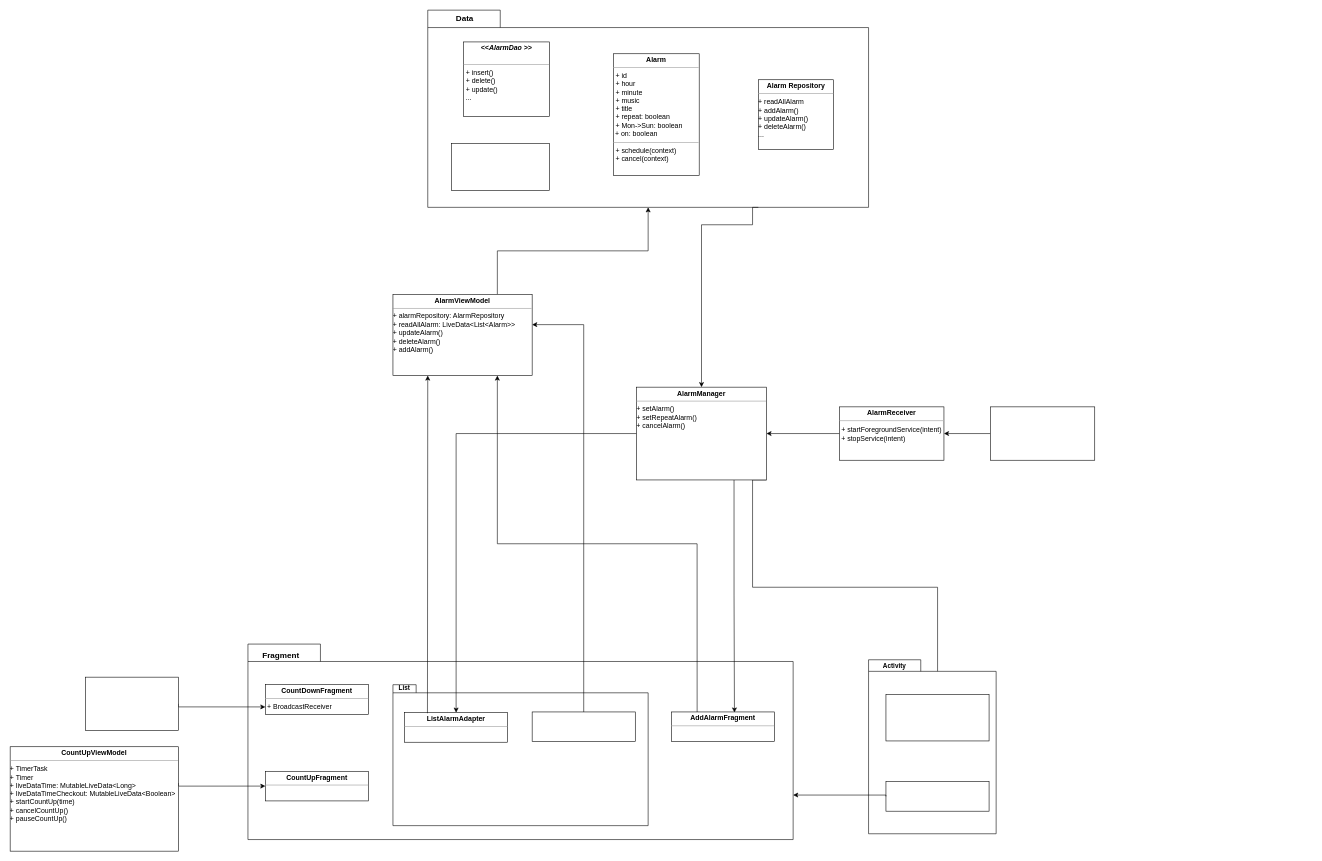
This 1322x861 diagram has some shape labels left out. The box of each missing label's shape, as (x1, y1, x2, y2) in pixels:
Alarm Database + alarmDao(): AlarmDao + getDatabase(): (451, 143, 550, 190)
AlarmService + mediaPlayer: MediaPlayer + notification: Notifycation: (990, 406, 1095, 460)
CountDownService + CountDownTimer + notification: Notification: (85, 677, 178, 731)
ListAlarmFragment: (532, 711, 635, 742)
MainActivity: (885, 781, 989, 811)
RingActivity + StopAlarm() + DelayAlarm(): (885, 694, 989, 741)
